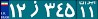character: (41, 1, 56, 19), (15, 1, 28, 19), (29, 1, 42, 19), (65, 1, 76, 19), (56, 1, 65, 19), (8, 1, 16, 19), (88, 5, 98, 19), (78, 5, 86, 19)
